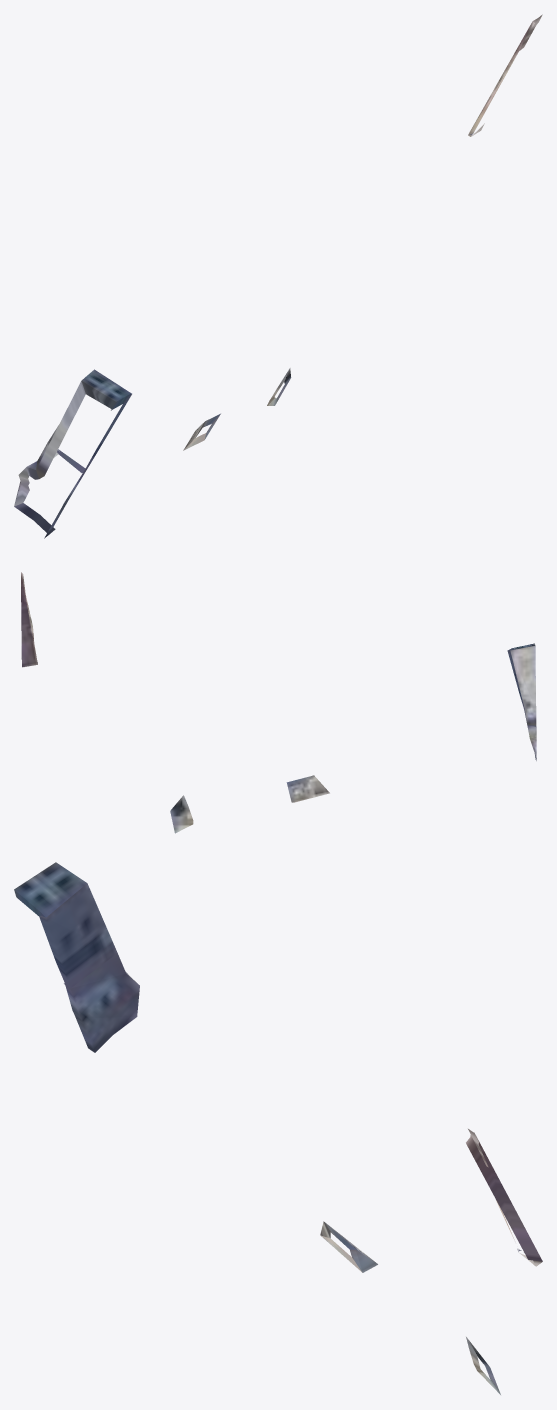
3 renders of one model, top to bottom at view 1: azimuth 30°, elevation 25°; view 2: azimuth 150°, elevation 25°; view 3: azimuth 270°, elevation 25°, orthographic. The views are drawn at different scales.
Bounding box in the file's own units: 135 × 65.62 × 75.14.
1 material, 1 textured.
